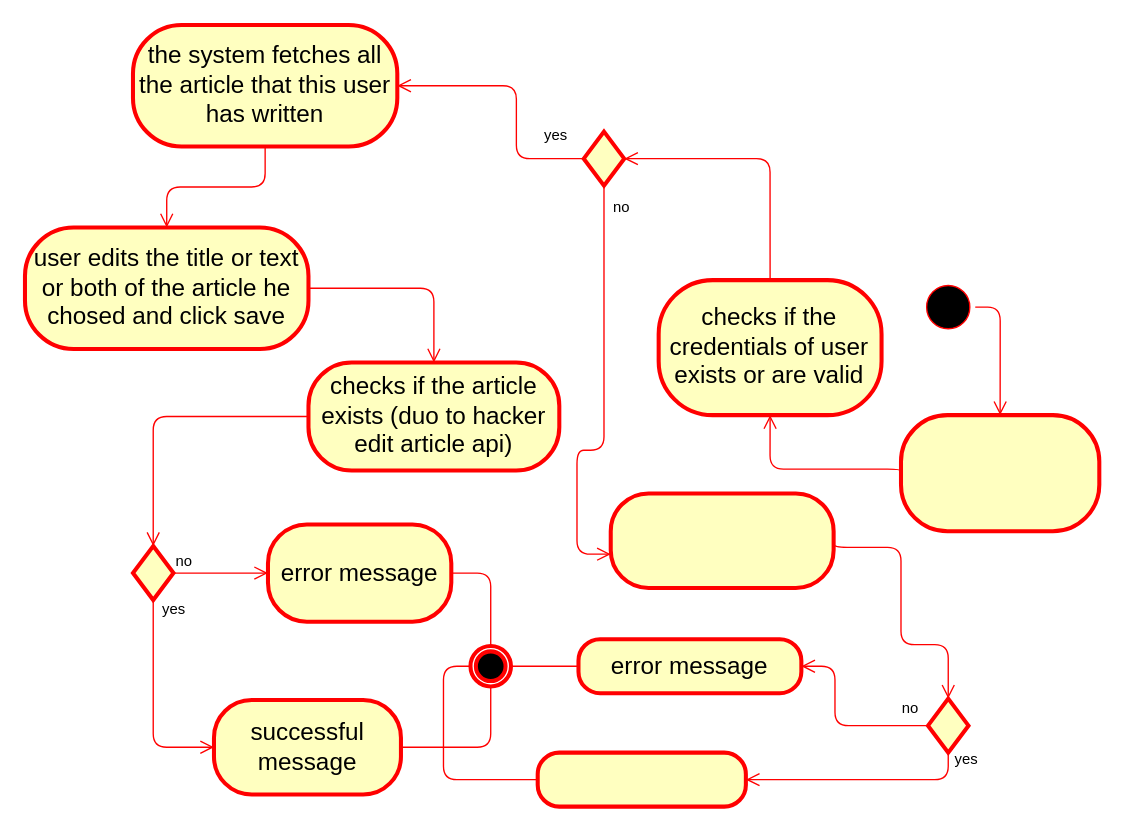
This 1125x832 diagram has some shape labels left out. The shapes that lost their labels are listed below. From the top down, each one's box as (x1, y1, x2, y2) in pixels, then its label:
(898, 412, 1101, 533): the user enters the manage own article section
(608, 491, 835, 589): check if the access token is expired
(535, 750, 747, 808): need refresh
